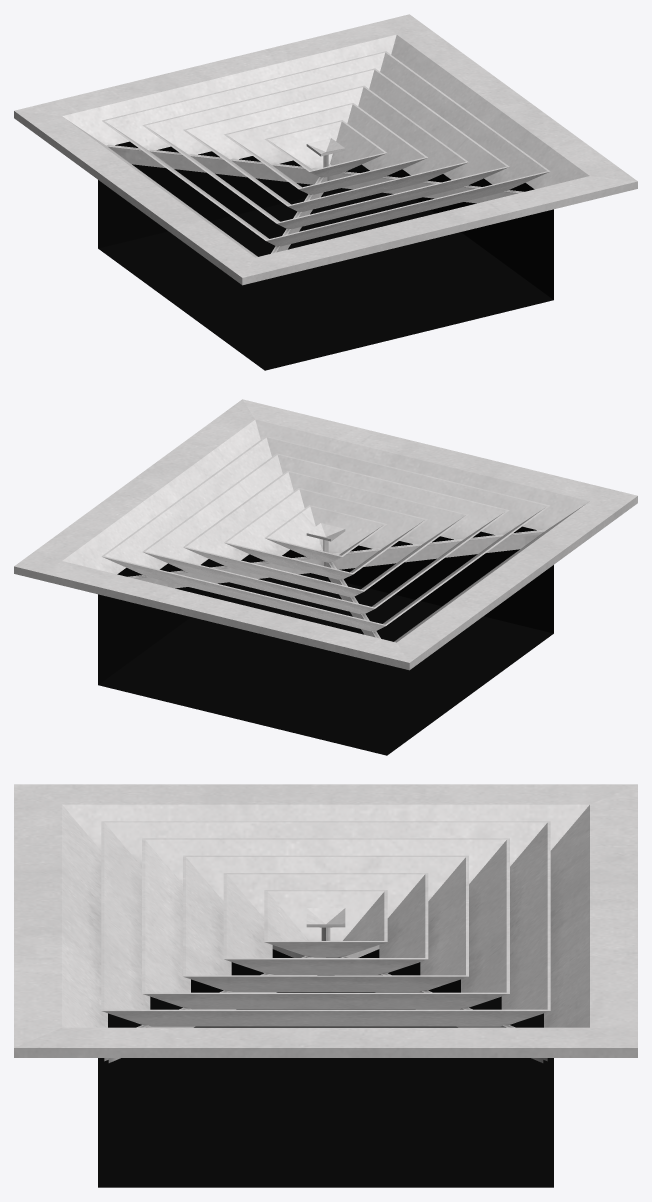
Rendered from Air_Vent_3A.fbx.
3 renders of one model, top to bottom at view 1: azimuth 30°, elevation 25°; view 2: azimuth 150°, elevation 25°; view 3: azimuth 270°, elevation 25°, orthographic. The views are drawn at different scales.
Visible parts, largest first — view 1: body, black_box; view 2: body, black_box; view 3: body, black_box.
Boxes of the visible parts, x1,y1,x2,y2 form: body: (14, 14, 637, 285); black_box: (98, 141, 553, 370); body: (14, 399, 637, 670); black_box: (98, 526, 553, 755); body: (14, 784, 637, 1062); black_box: (98, 949, 553, 1187).
Size of the model in its own units: 44.01 by 13.64 by 44.01.
Materials: 1 (1 with a texture image).
